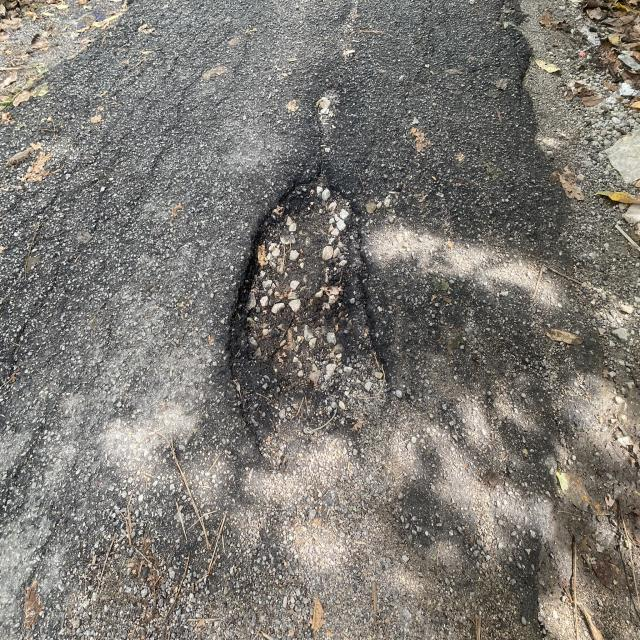Pothole: (160, 109, 422, 538)
